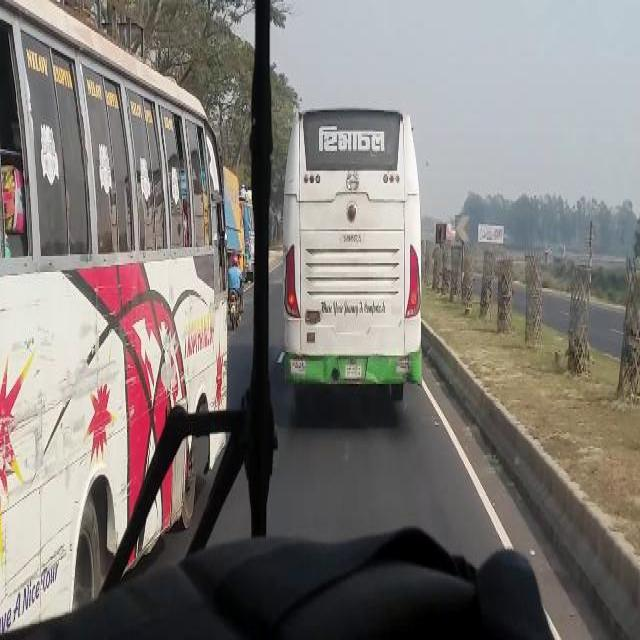BUS: (277, 104, 426, 400)
